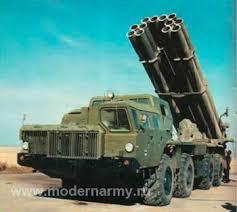MIL_SAM_TEL: (22, 13, 225, 206)
